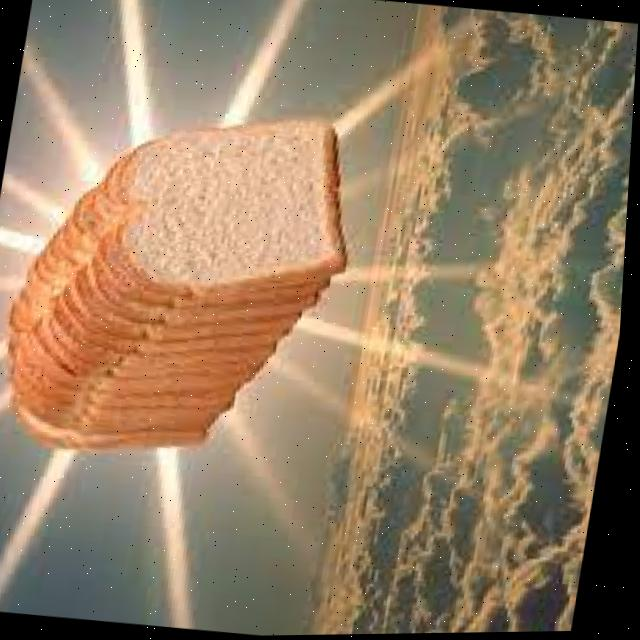Bread: (130, 124, 341, 283)
